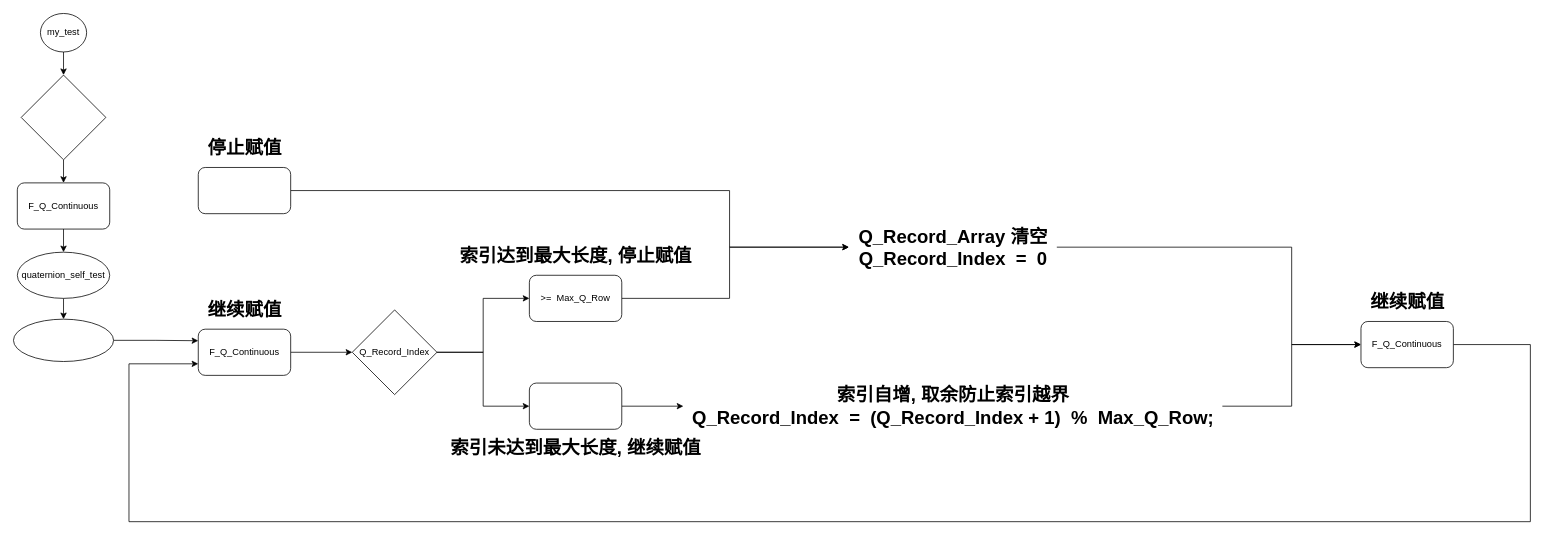
This 1550x541 diagram has some shape labels left out. Each missing label, with the centre of its shape:
< Max_Q_Row: point 575,405
F_Q_Stop: point 244,190
Q_Record_Flag: point 63,117
write_imu_array_to_file: point 63,340
